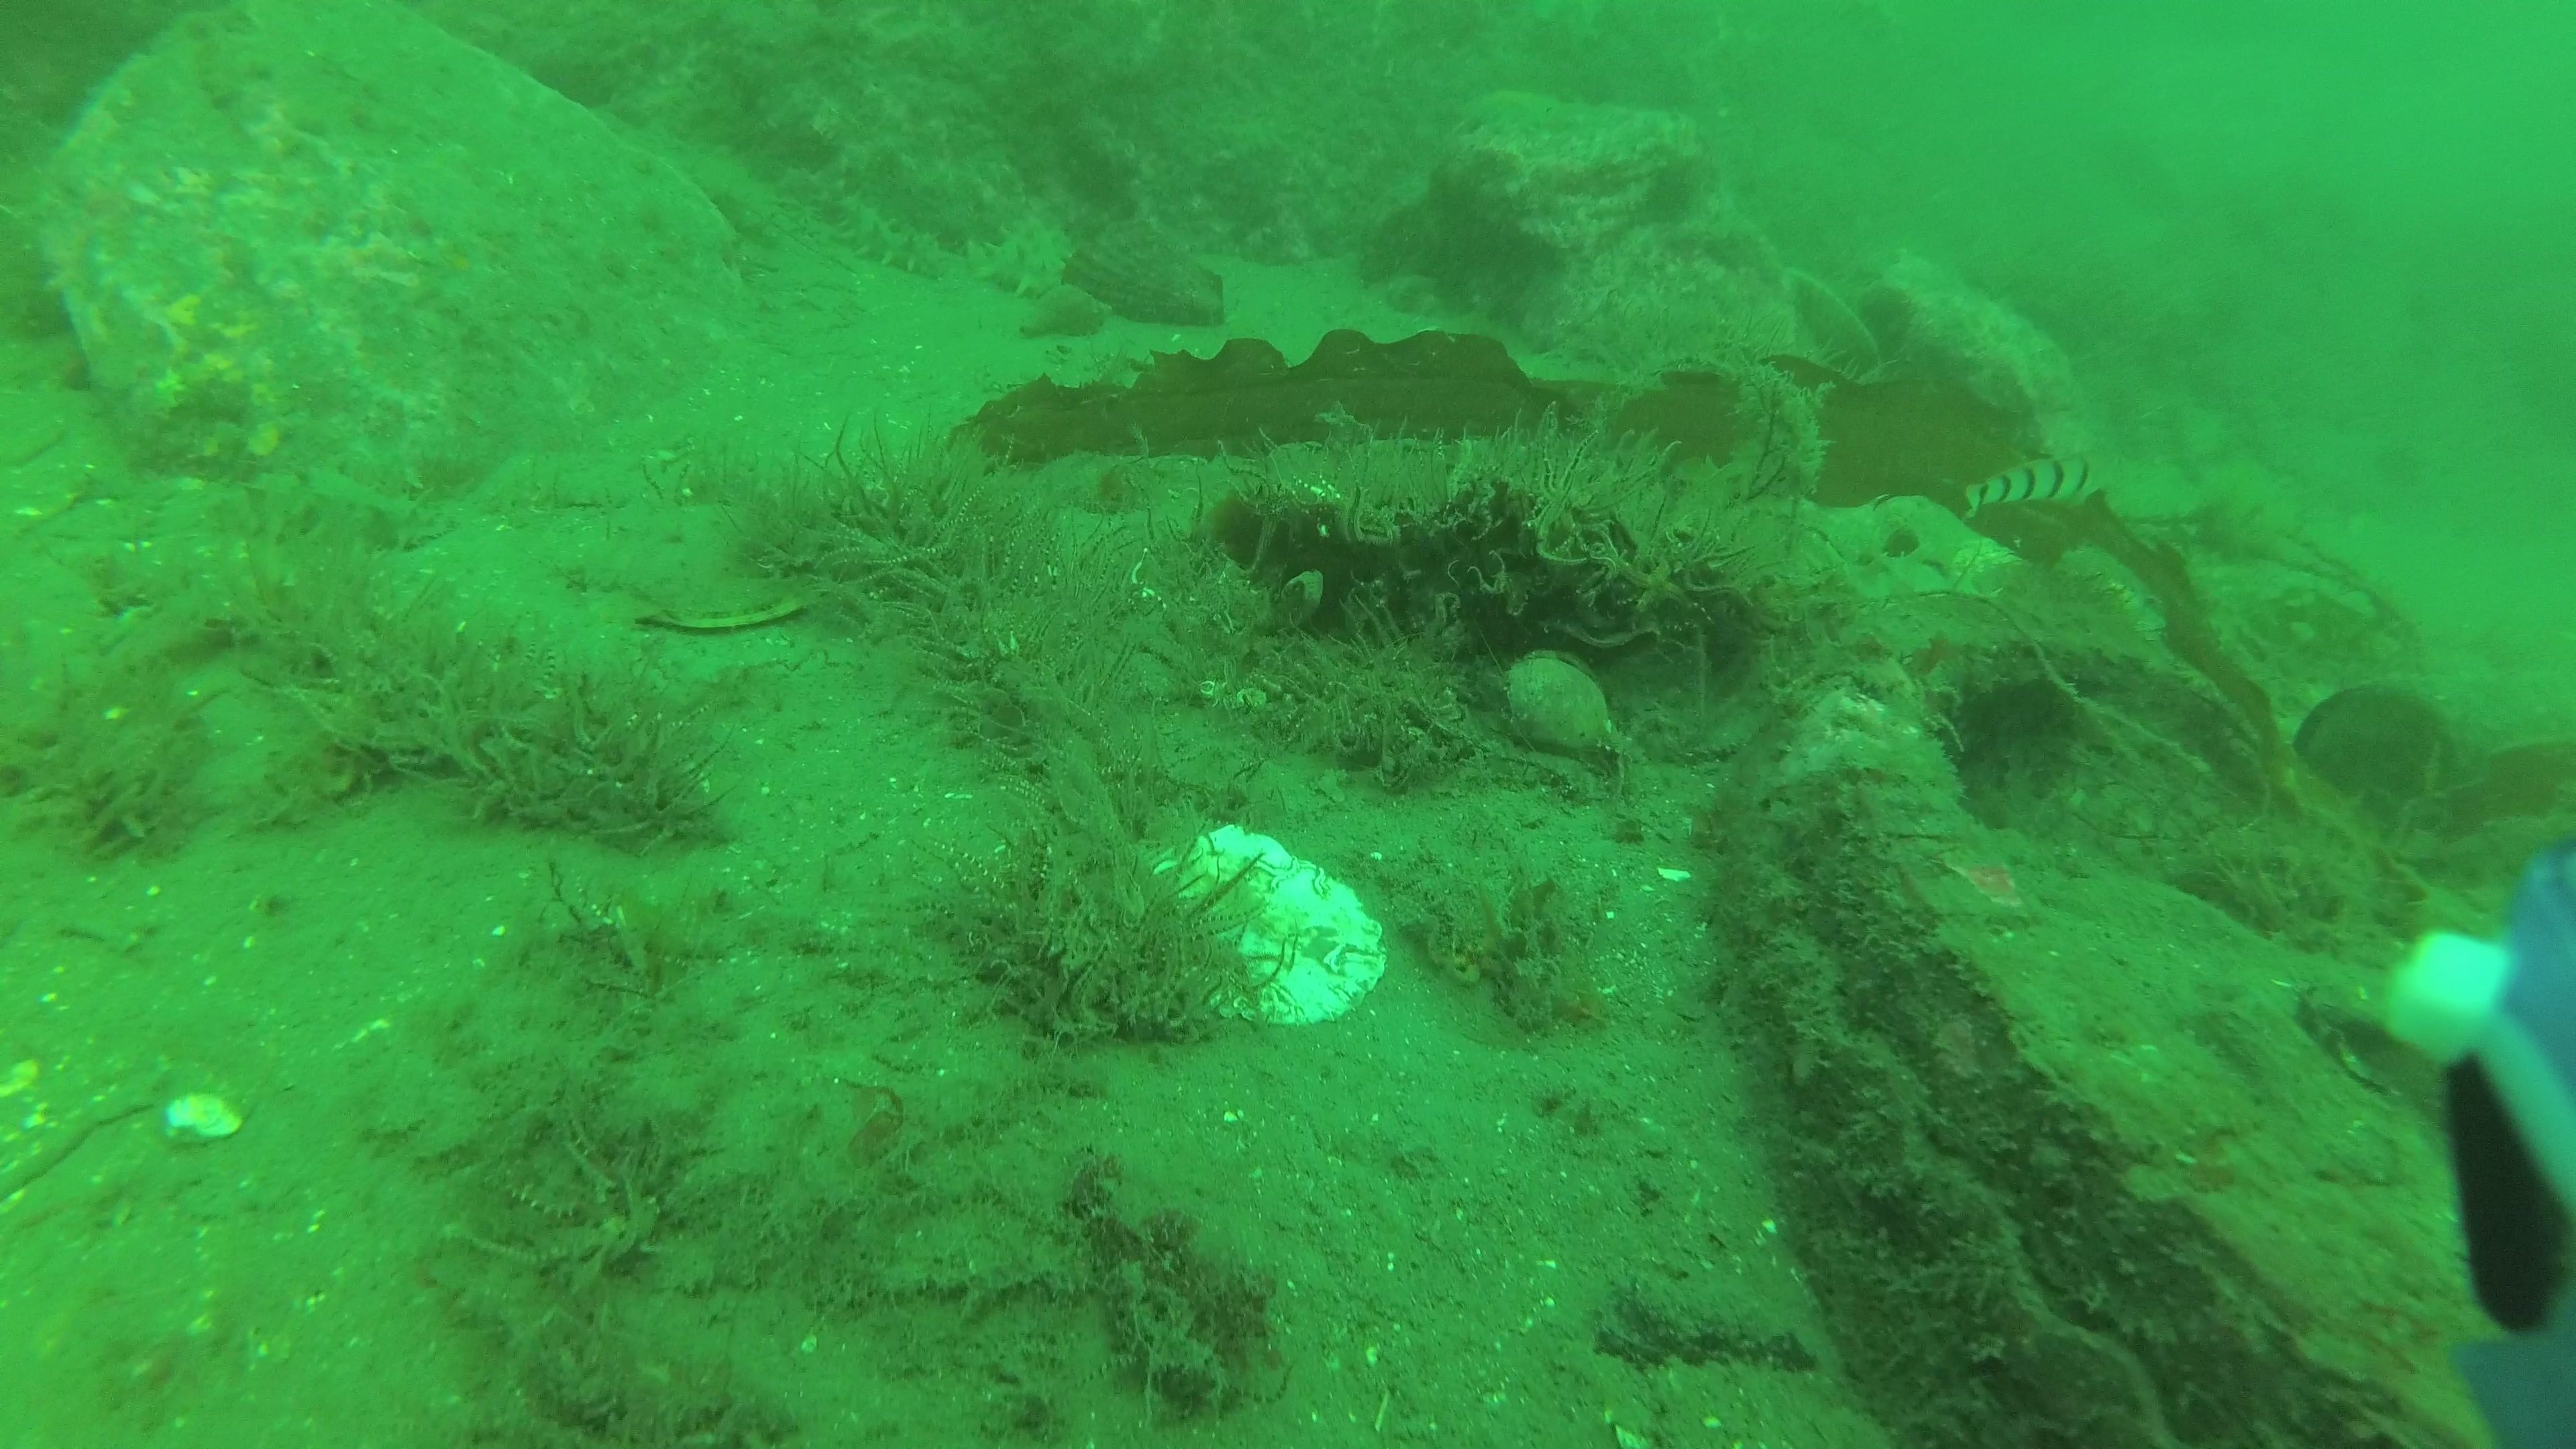holothurian: (821, 182, 952, 287), (968, 225, 1065, 308)
scallop: (1049, 214, 1235, 336), (1775, 257, 1891, 403)
